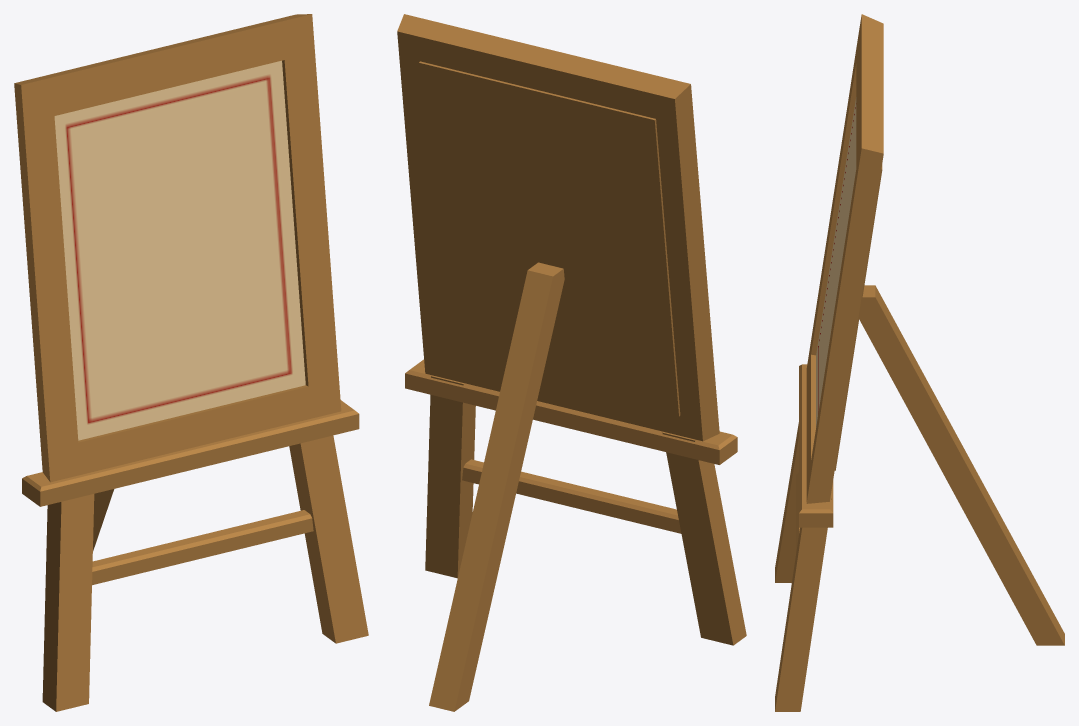
The model's file is SM_Sign_MenuEasel_Blank_01.fbx.
The picture shows the model from 3 angles, left to right: view 1: azimuth 30°, elevation 25°; view 2: azimuth 150°, elevation 25°; view 3: azimuth 270°, elevation 25°; orthographic projection. The views are drawn at different scales.
Parts seen in each view (by area): view 1: SM_Sign_MenuEasel_Blank_01; view 2: SM_Sign_MenuEasel_Blank_01; view 3: SM_Sign_MenuEasel_Blank_01.
Part boxes in pixels (bbox=[...]): SM_Sign_MenuEasel_Blank_01: bbox=[14, 14, 368, 711]; SM_Sign_MenuEasel_Blank_01: bbox=[397, 14, 746, 711]; SM_Sign_MenuEasel_Blank_01: bbox=[775, 14, 1064, 711].
Size of the model in its own units: 0.68 by 1.2 by 0.5654.
Materials: 1 (1 with a texture image).
